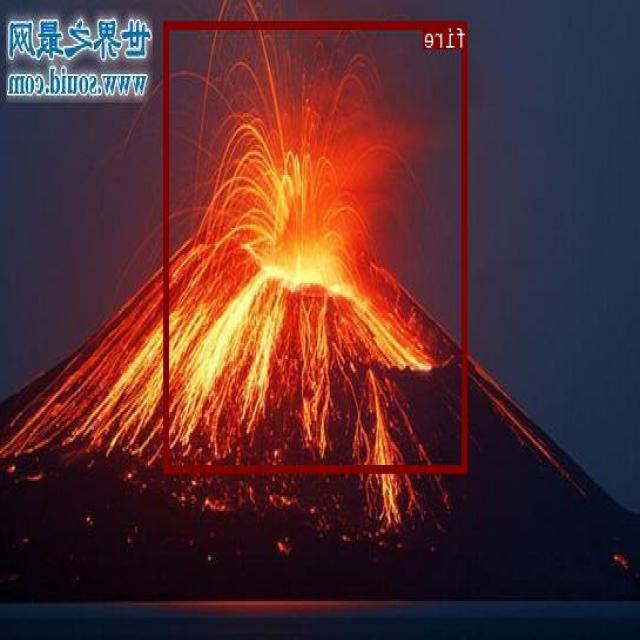fire: (164, 21, 468, 472)
